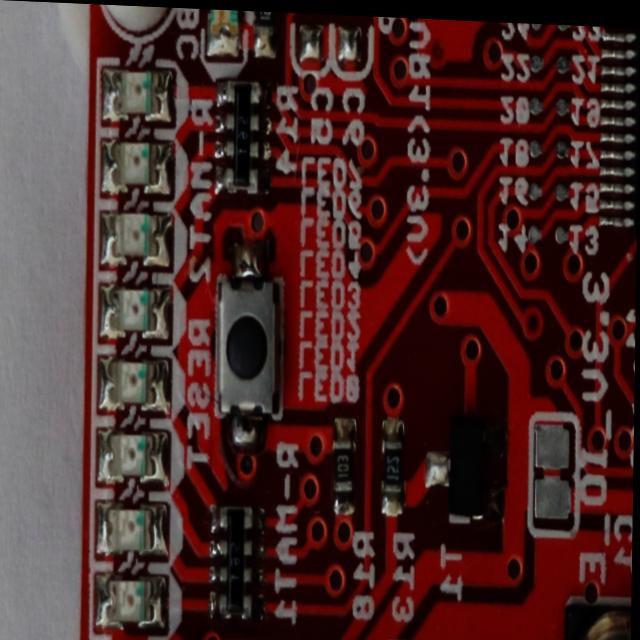IC: (596, 21, 640, 297)
LED: (94, 348, 177, 422), (99, 60, 180, 134), (96, 204, 177, 277), (98, 132, 179, 205), (96, 276, 177, 348), (95, 422, 176, 492), (92, 568, 172, 638), (94, 495, 173, 565), (202, 7, 246, 58)
button: (210, 235, 287, 454)
clock: (545, 594, 633, 640)
component text: (233, 107, 251, 160), (229, 534, 244, 585), (386, 446, 401, 483), (338, 448, 350, 483), (258, 9, 272, 22)
pads: (526, 405, 583, 537), (287, 10, 331, 81), (330, 12, 374, 78)
resistor: (212, 506, 270, 618), (216, 79, 271, 196), (334, 417, 358, 512), (383, 416, 406, 515), (253, 9, 279, 58)
test point: (529, 45, 545, 74), (553, 90, 570, 117), (554, 46, 571, 72), (553, 215, 568, 243), (553, 175, 569, 201), (529, 130, 543, 158), (554, 134, 570, 158), (530, 173, 544, 200), (529, 88, 544, 113), (528, 217, 543, 240), (555, 20, 573, 32), (629, 388, 636, 414), (530, 19, 545, 30), (631, 348, 636, 375)
transistor: (425, 412, 508, 522)
